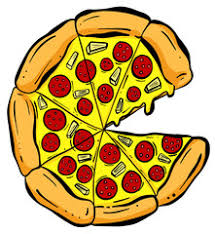pizza: (10, 8, 210, 220)
